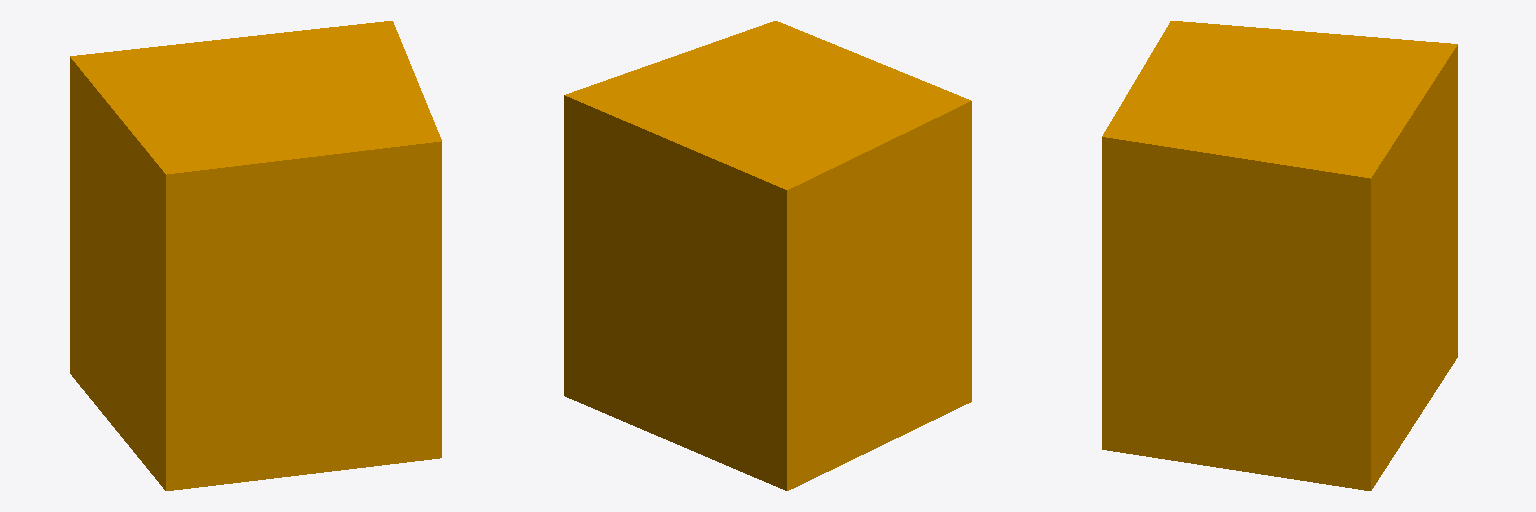
The robot description file, URDF, robot "object":
<?xml version="1.0"?>
<robot name="object">
  <link name="object">
    <visual>
      <origin xyz="0 0 0"/>
      <geometry>
        <mesh filename="meshes/generated/col_106.obj" scale="0.03 0.03 0.03"/>
      </geometry>
    </visual>
    <collision>
      <origin xyz="0 0 0"/>
      <geometry>
        <mesh filename="meshes/generated/col_106.obj" scale="0.03 0.03 0.03"/>
      </geometry>
    </collision>
    <inertial>
      <density value="1000.0"/>
    </inertial>
  </link>
</robot>

--- What the picture shows (computed from the rendered views, not written in the file) ---
The picture shows the robot from 3 angles, left to right: view 1: azimuth 30°, elevation 25°; view 2: azimuth 150°, elevation 25°; view 3: azimuth 270°, elevation 25°; orthographic projection.
Robot: object — 1 links, 0 joints (none); root link object; default pose: every joint at zero.
Links seen in each view (by area): view 1: object; view 2: object; view 3: object.
Boxes of the visible links, box(x1,y1,x2,y2) form: object: box(70, 21, 441, 490); object: box(564, 21, 971, 490); object: box(1102, 21, 1457, 490).
Bounding box of the posed robot: 0.065 × 0.0619 × 0.06 m (x, y, z).
Meshes: 1 distinct files referenced, 1 mesh visuals loaded (1 OBJ).
